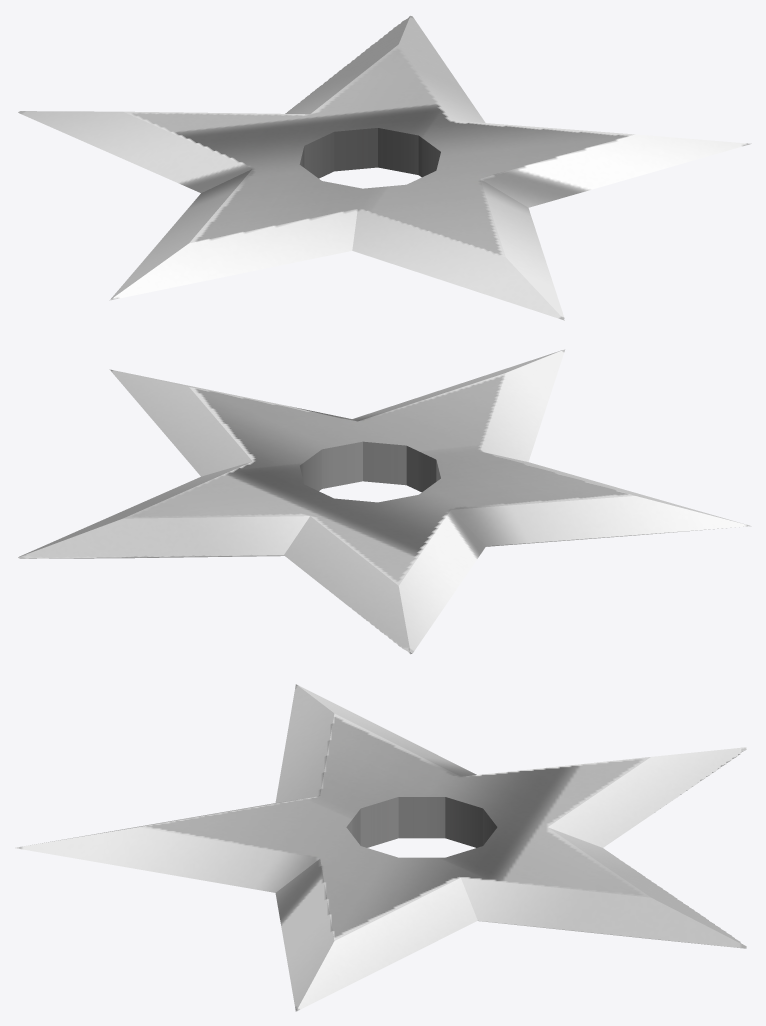
File: 5Star.FBX
3 renders of one model, top to bottom at view 1: azimuth 30°, elevation 25°; view 2: azimuth 150°, elevation 25°; view 3: azimuth 270°, elevation 25°, orthographic. The views are drawn at different scales.
Visible parts, largest first — view 1: 5Star; view 2: 5Star; view 3: 5Star.
Part boxes in pixels (x1,y1,x2,y2): 5Star: [18, 15, 751, 320]; 5Star: [18, 349, 751, 654]; 5Star: [15, 684, 746, 1011].
Bounding box in the file's own units: 3.95 × 3.76 × 0.2333.
1 material, 1 textured.
